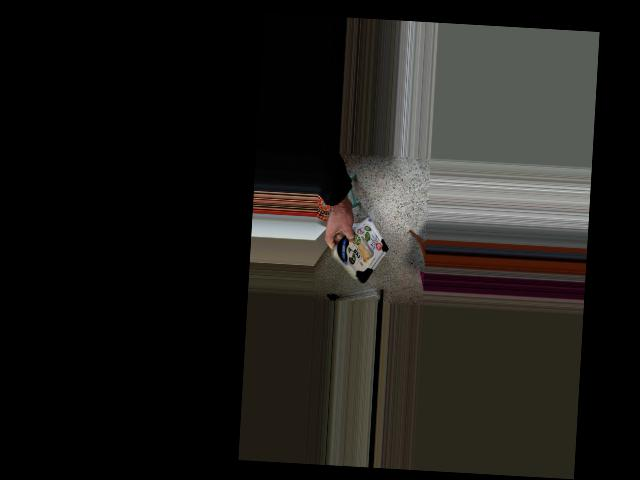cheese: (318, 225, 395, 282)
